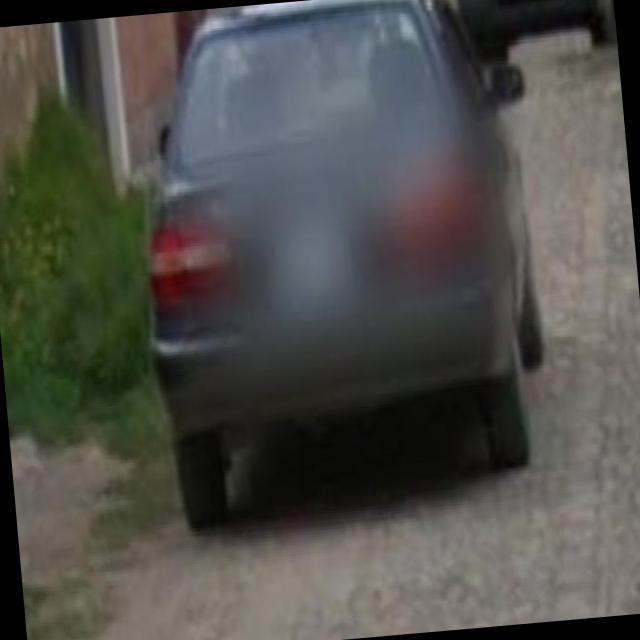car: (115, 0, 543, 531)
